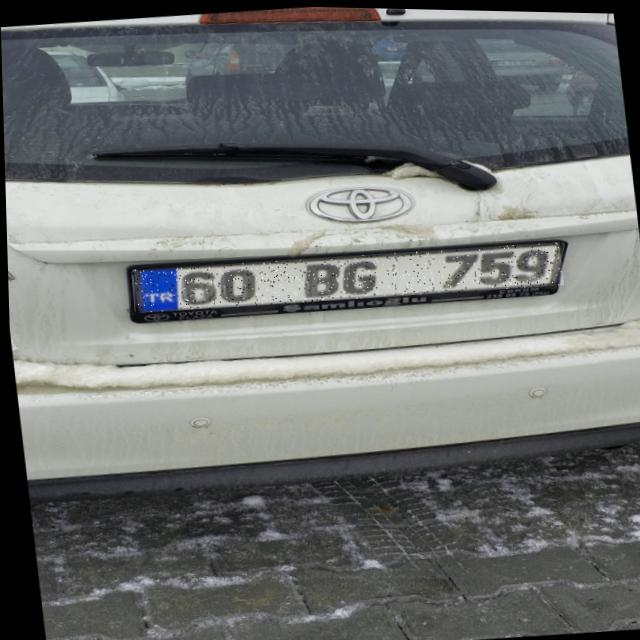license_plate: (131, 232, 563, 319)
